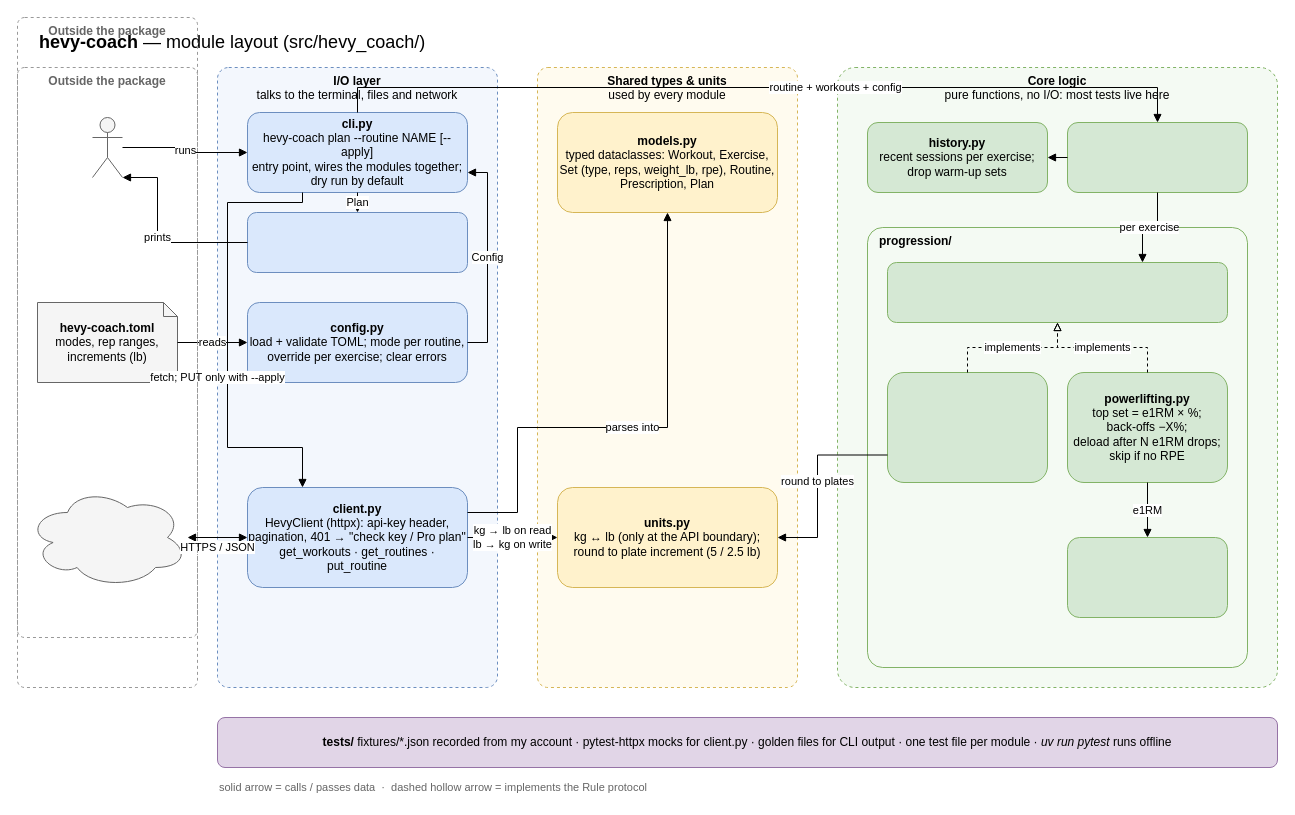
Some shapes in this 1295 by 815 pixel diagram are drawn without their labels. The centre of each missing label's shape, as x and y in pixels:
base.py Rule protocol: next(history, settings) → Prescription: (1057,292)
bodybuilding.py double progression in rep range; deload after N stalled sessions: (967,427)
Hevy API api.hevyapp.com/v1 (weights in kg): (107,537)
planner.py pick rule by mode, build Plan + updated Routine: (1157,157)
report.py before / after table, warnings (e.g. no RPE): (357,242)
rpe.py RPE → % table; e1rm(weight, reps, rpe): (1147,577)
You (terminal): (107,147)
